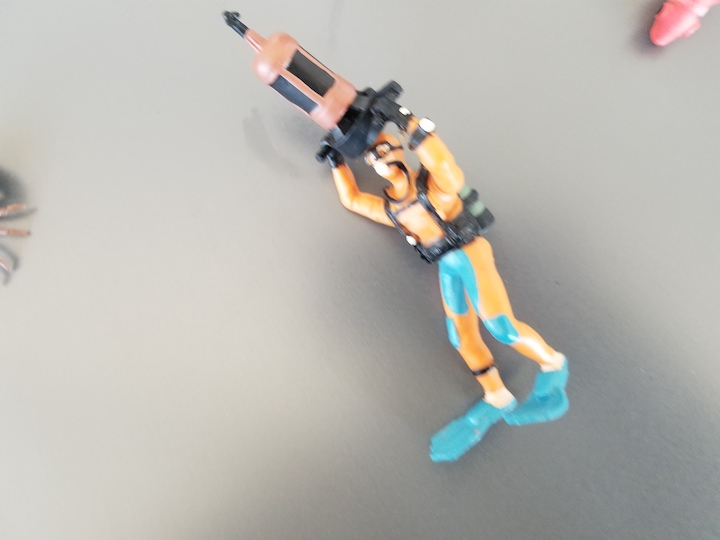crab: (1, 167, 38, 287)
diver: (217, 7, 577, 468)
fish: (647, 1, 720, 49)
